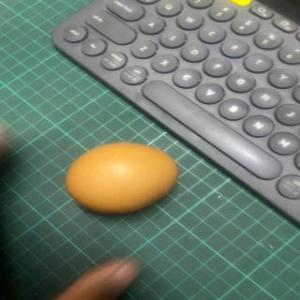egg: (63, 140, 181, 214)
